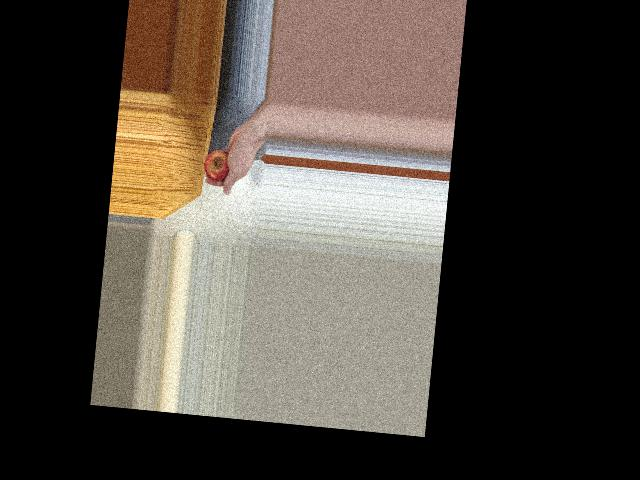apple: (201, 141, 235, 184)
